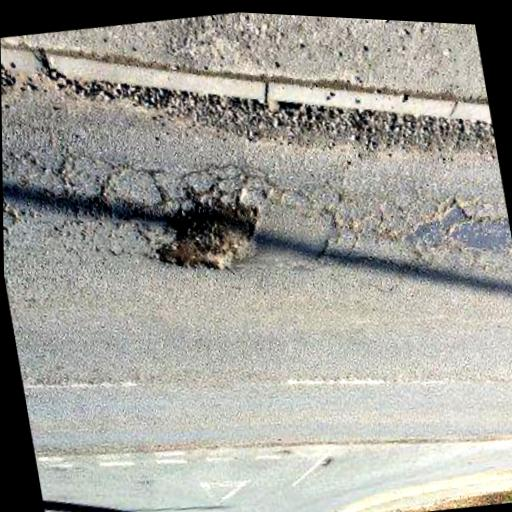pothole: (142, 177, 274, 286)
